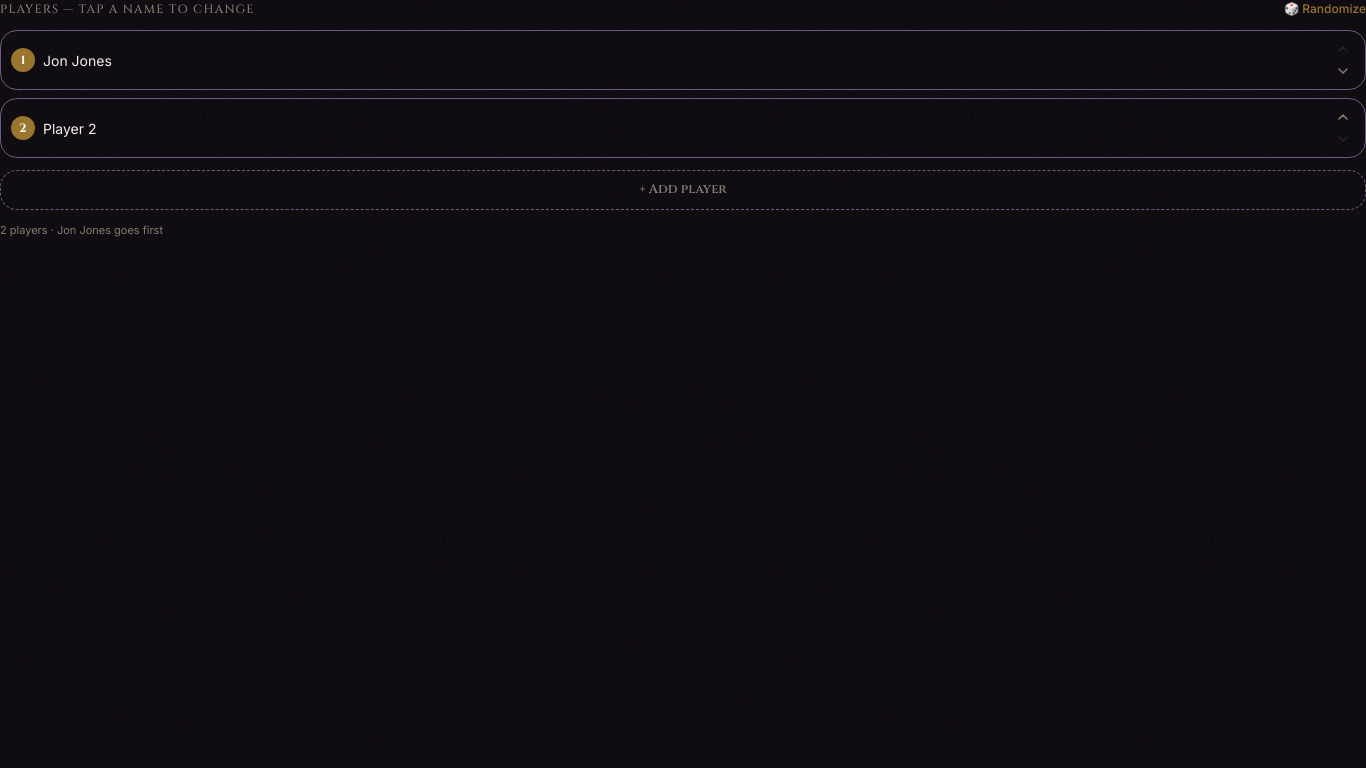
Scenario: PlayerRoster › offers a pod member removal only
The image size is (1366, 768).
Click the button "Jon Jones" at coordinates (77, 60), box [43,50,1323,70]
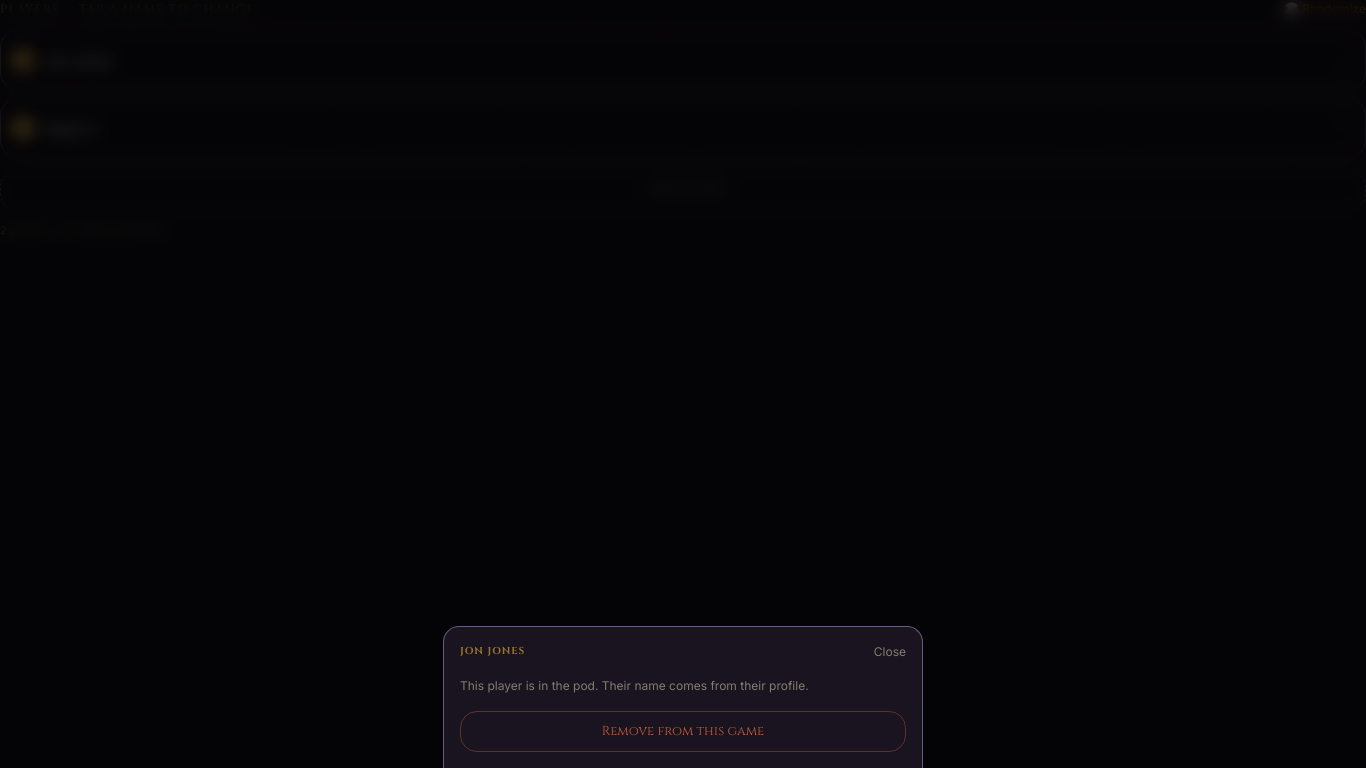
expect the text "name comes from their profile" is shown: met, box [460,678,809,692]
expect the button "Remove from this game" is shown: met, box [460,710,906,752]
